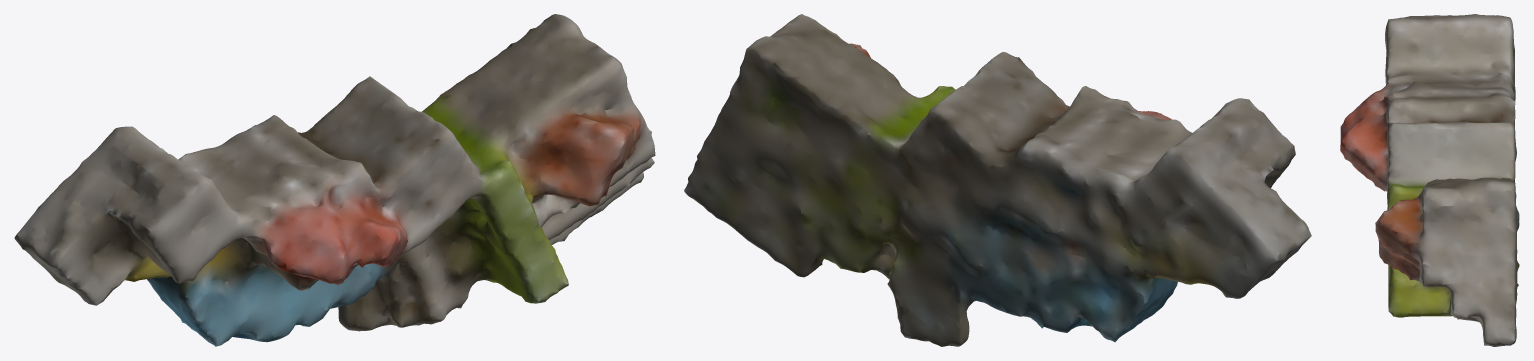
The model's file is blocks.glb.
3 renders of one model, left to right at view 1: azimuth 30°, elevation 25°; view 2: azimuth 150°, elevation 25°; view 3: azimuth 270°, elevation 25°, orthographic. The views are drawn at different scales.
Size of the model in its own units: 0.9948 by 0.4077 by 0.3187.
